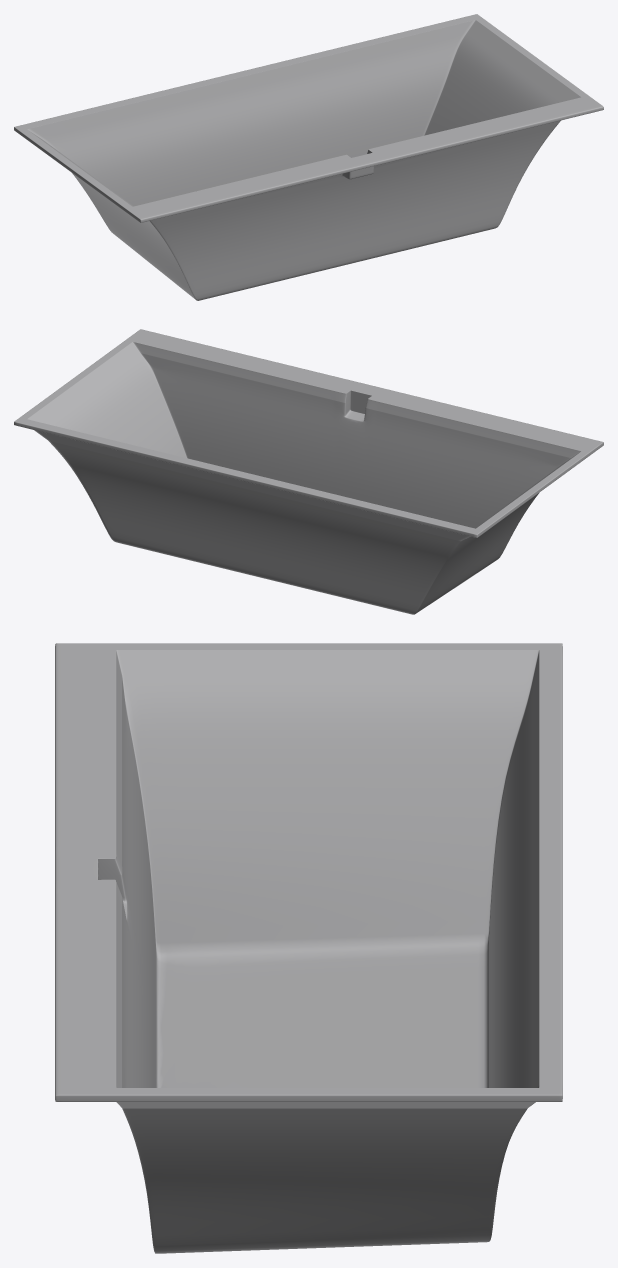
File: banheira.obj
3 renders of one model, top to bottom at view 1: azimuth 30°, elevation 25°; view 2: azimuth 150°, elevation 25°; view 3: azimuth 270°, elevation 25°, orthographic. The views are drawn at different scales.
Parts seen in each view (by area): view 1: banheira_Plane.001_Plane.003; view 2: banheira_Plane.001_Plane.003; view 3: banheira_Plane.001_Plane.003.
Boxes of the visible parts, x1=… form: banheira_Plane.001_Plane.003: x1=14, y1=14, x2=603, y2=300; banheira_Plane.001_Plane.003: x1=14, y1=329, x2=603, y2=614; banheira_Plane.001_Plane.003: x1=55, y1=643, x2=562, y2=1253.
Bounding box in the file's own units: 2.97 × 0.7481 × 1.41.
